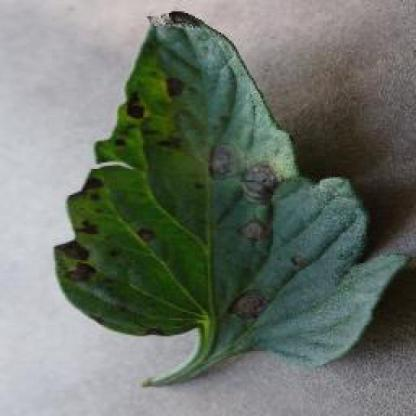Tomato_Blight: (54, 12, 411, 362)
